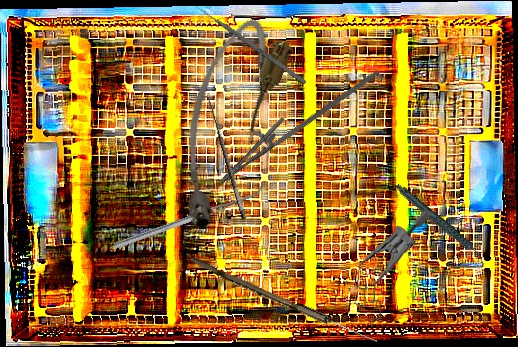Cannula: (150, 10, 298, 238)
Handpiece: (394, 169, 486, 278)
Hook Surgical: (196, 91, 248, 223)
Needle Holder: (209, 41, 381, 202)
Pusher: (191, 2, 308, 85)
Spatula Surgical: (111, 183, 267, 249)
Speculum: (350, 203, 432, 331)
Surgical Spoon: (188, 256, 379, 346)
